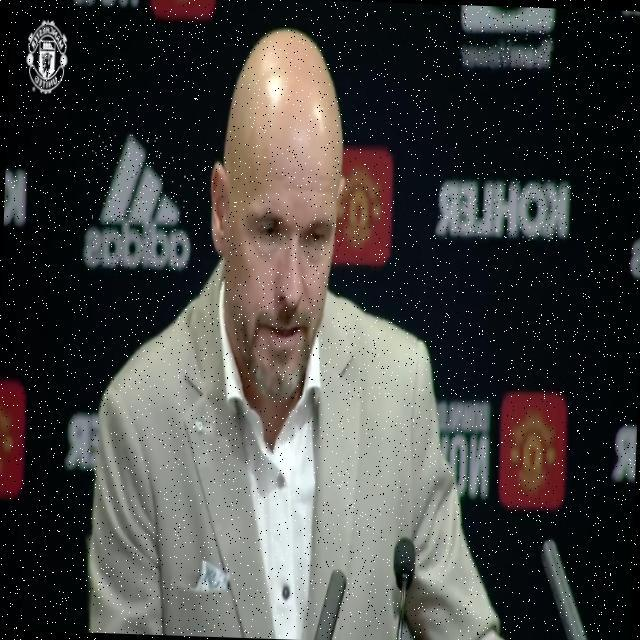Adidas: (83, 133, 196, 270)
Kohler: (435, 176, 571, 243)
TeamViewer: (459, 5, 554, 70)
